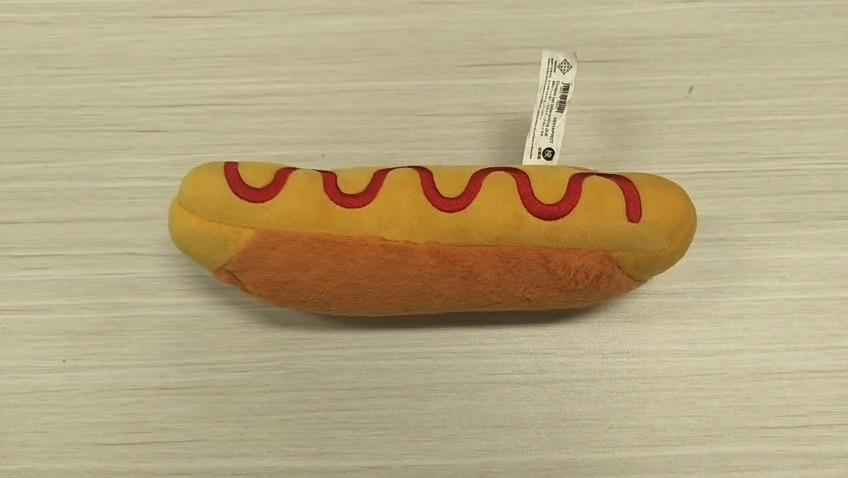hotdog: (167, 165, 698, 318)
